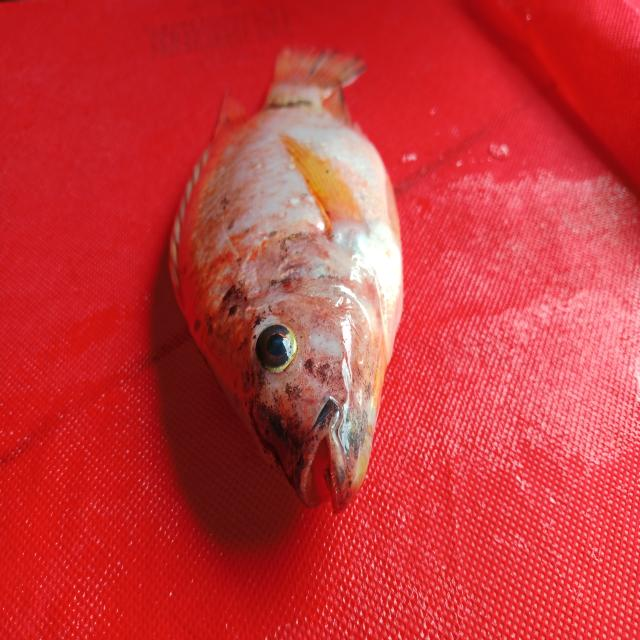ikan: (154, 7, 430, 544)
